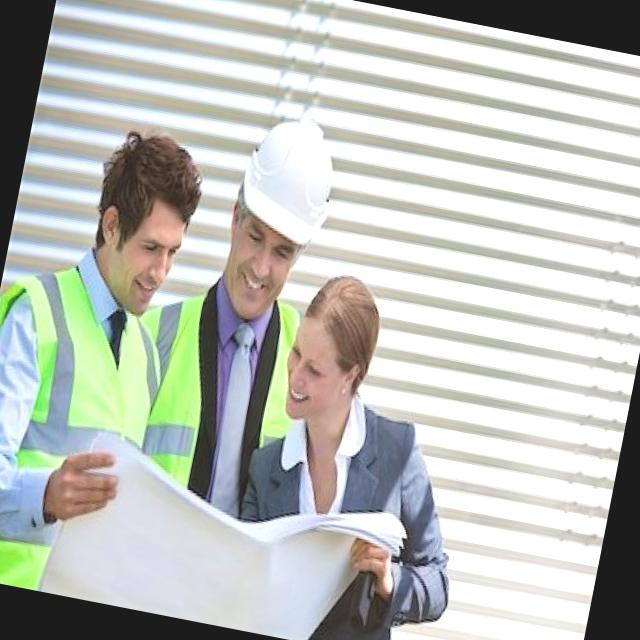helmet: (221, 101, 359, 281)
no-helmet: (62, 107, 242, 335), (259, 238, 424, 466)
vest: (0, 274, 149, 564), (154, 288, 298, 494)
